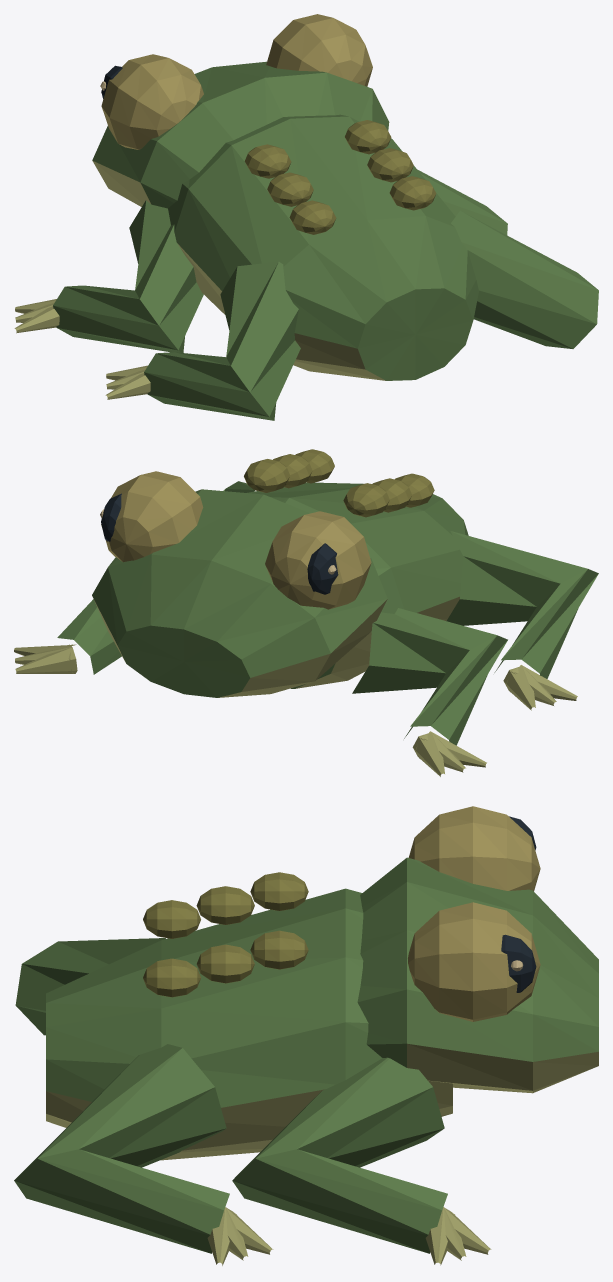
File: frog.glb
The picture shows the model from 3 angles, top to bottom: view 1: azimuth 30°, elevation 25°; view 2: azimuth 150°, elevation 25°; view 3: azimuth 270°, elevation 25°; orthographic projection. The views are drawn at different scales.
Parts seen in each view (by area): view 1: Body, Head, Leg2, Leg0, Leg3, Leg1; view 2: Head, Body, Leg2, Leg0, Leg1; view 3: Body, Head, Leg3, Leg1, Leg2.
Part boxes in pixels (x1,y1,x2,y2): Body: (168,114,478,380); Head: (92,14,389,208); Leg2: (105,261,300,420); Leg0: (14,200,203,352); Leg3: (451,210,598,348); Leg1: (418,170,507,234); Head: (92,471,387,697); Body: (244,449,468,688); Leg2: (446,531,598,710); Leg0: (352,608,507,776); Leg1: (14,599,121,674); Body: (46,872,452,1160); Head: (357,806,598,1093); Leg3: (14,1044,273,1265); Leg1: (232,1057,491,1265); Leg2: (15,938,165,1035).
Bounding box in the file's own units: 0.4264 × 0.2048 × 0.3809.
